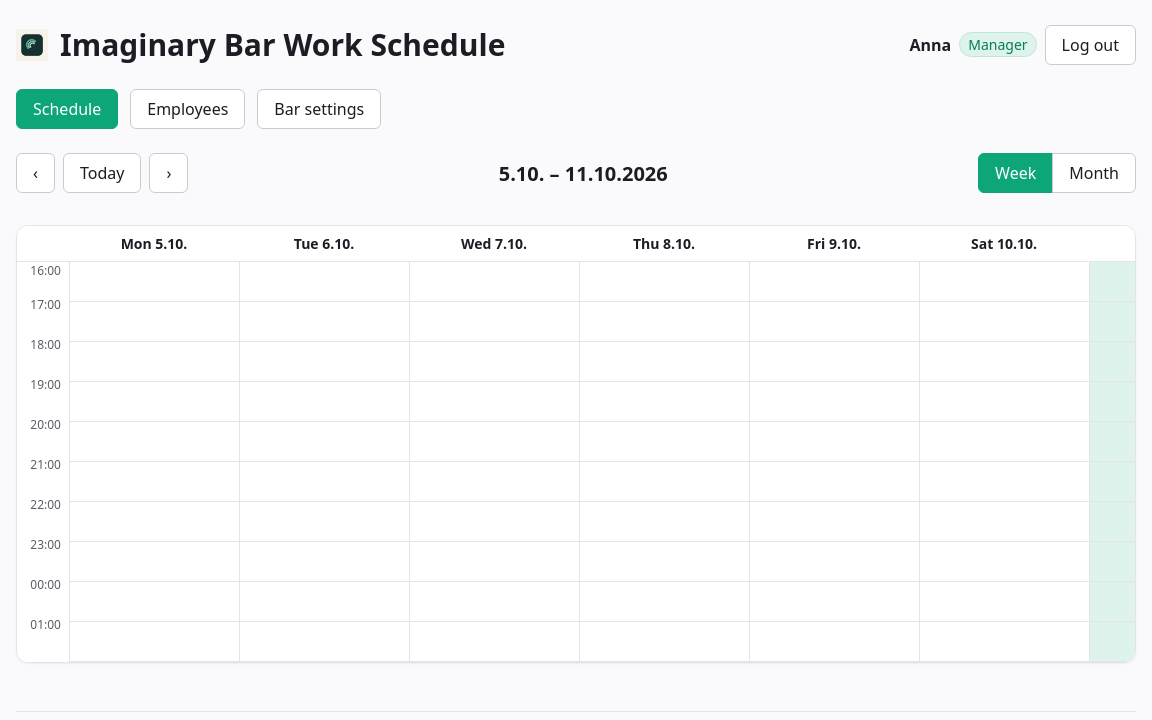
Test: the bar's settings are applied, and a manager can change them
Expected: the button "Schedule" is shown, top-left (16, 89), bottom-right (118, 129)
Expected: the text with class "week-hour-label" reads "16:00", top-left (30, 262), bottom-right (61, 279)
Click the button "Bar settings".
click(319, 109)  # box top-left (257, 89), bottom-right (381, 129)
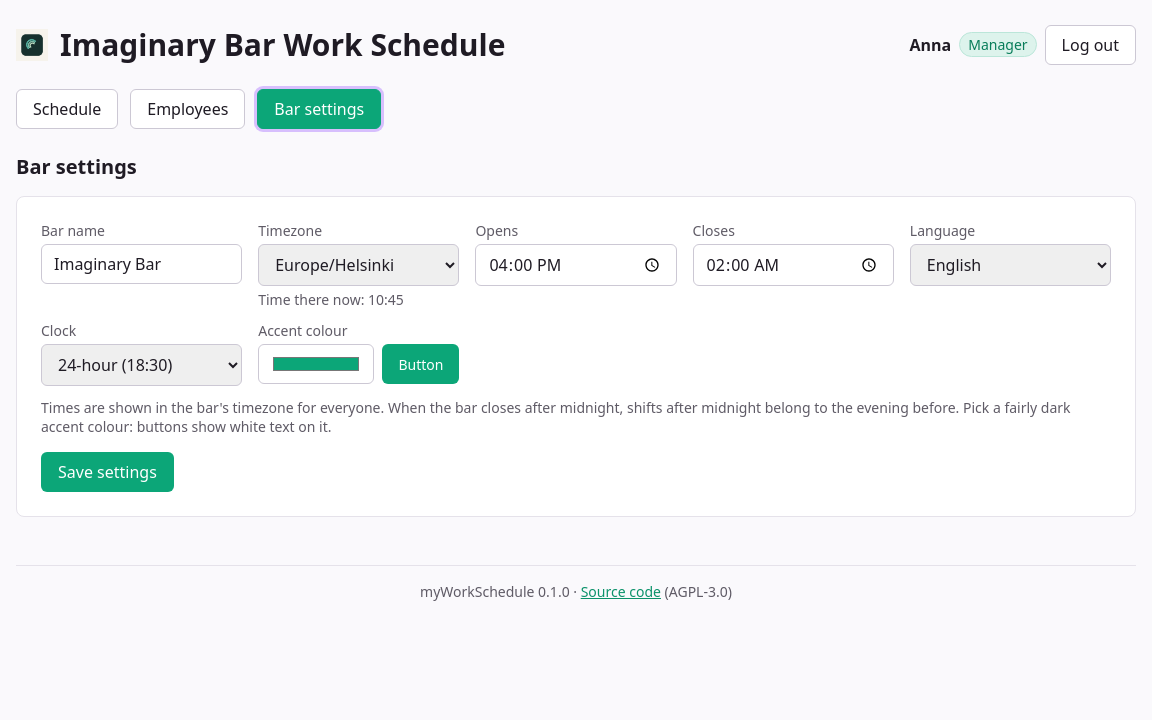
Replace the text in the field labelled "Bar name" with "Imaginary Bar & Grill" at (142, 264), box top-left (41, 244), bottom-right (242, 284)
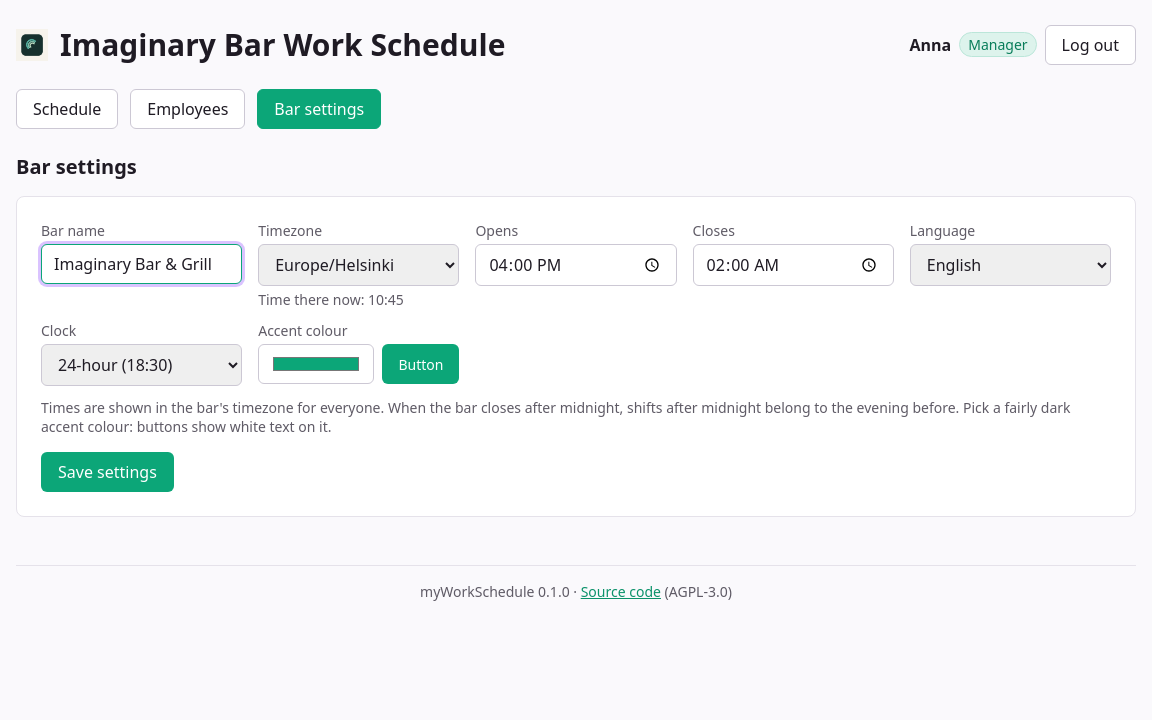
Select "12-hour (6:30 PM)" in the dropdown labelled "Clock" at (142, 365), box top-left (41, 344), bottom-right (242, 386)
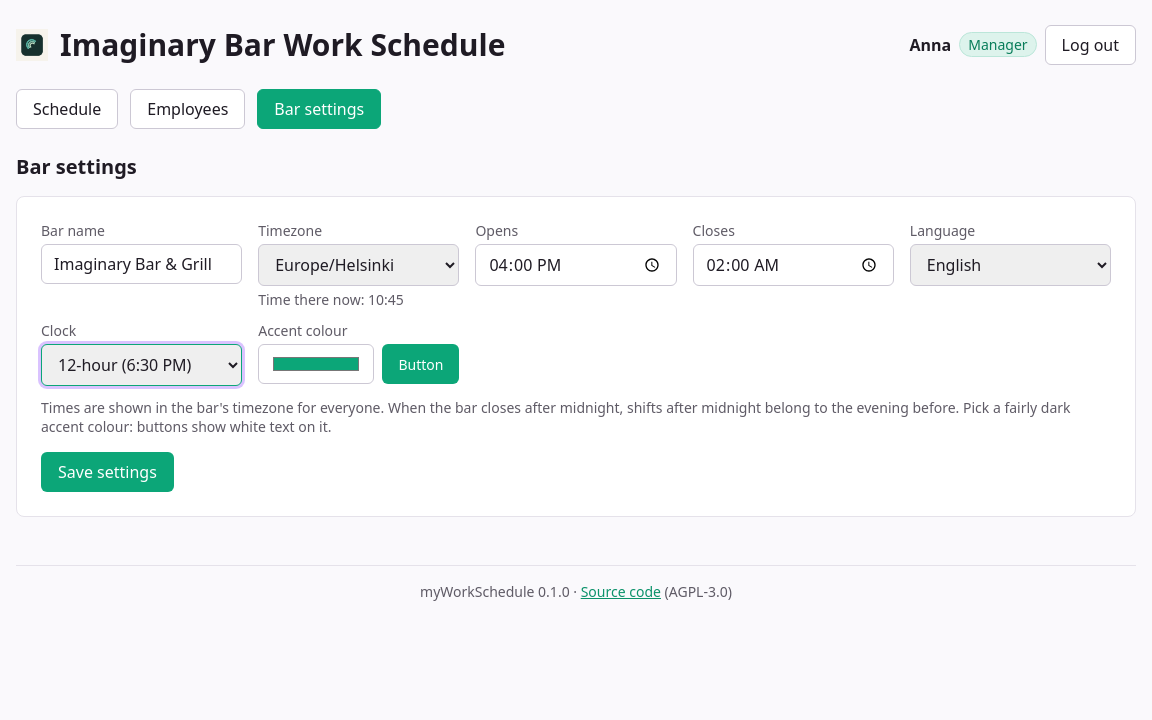
Click the button "Save settings".
click(107, 472)  # box top-left (41, 452), bottom-right (174, 492)
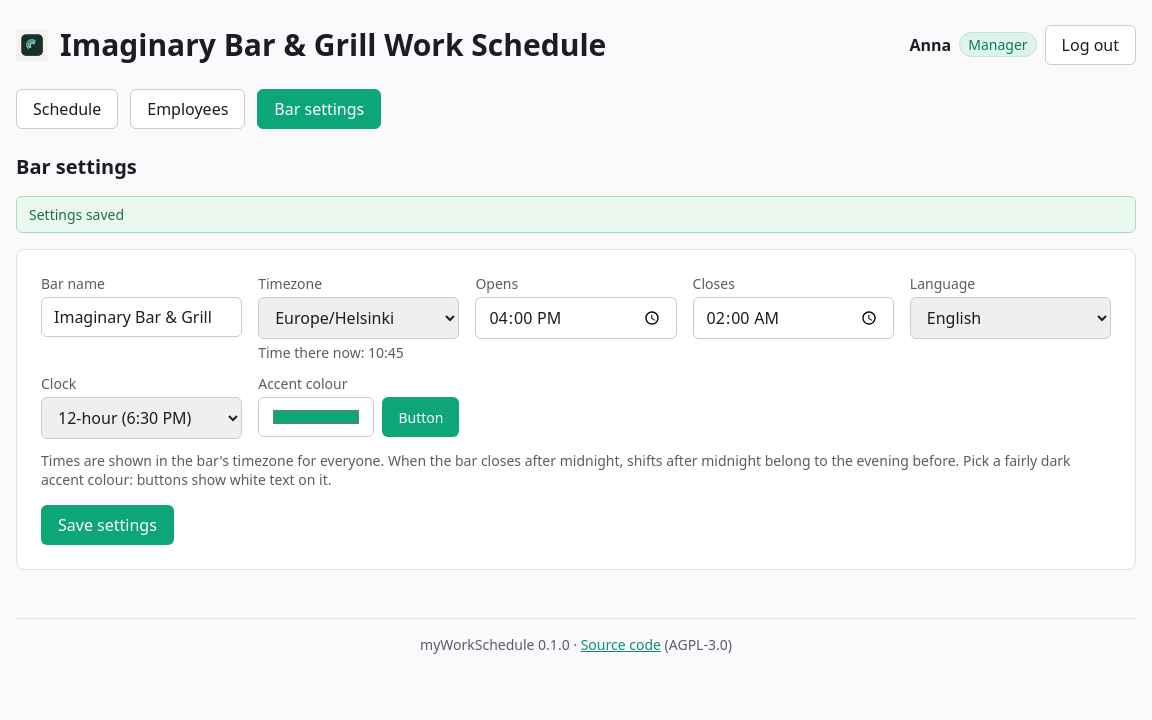
Now the heading "Imaginary Bar & Grill Work Schedule" is shown, box top-left (60, 24), bottom-right (606, 65)
Click the button "Schedule".
click(67, 109)  # box top-left (16, 89), bottom-right (118, 129)
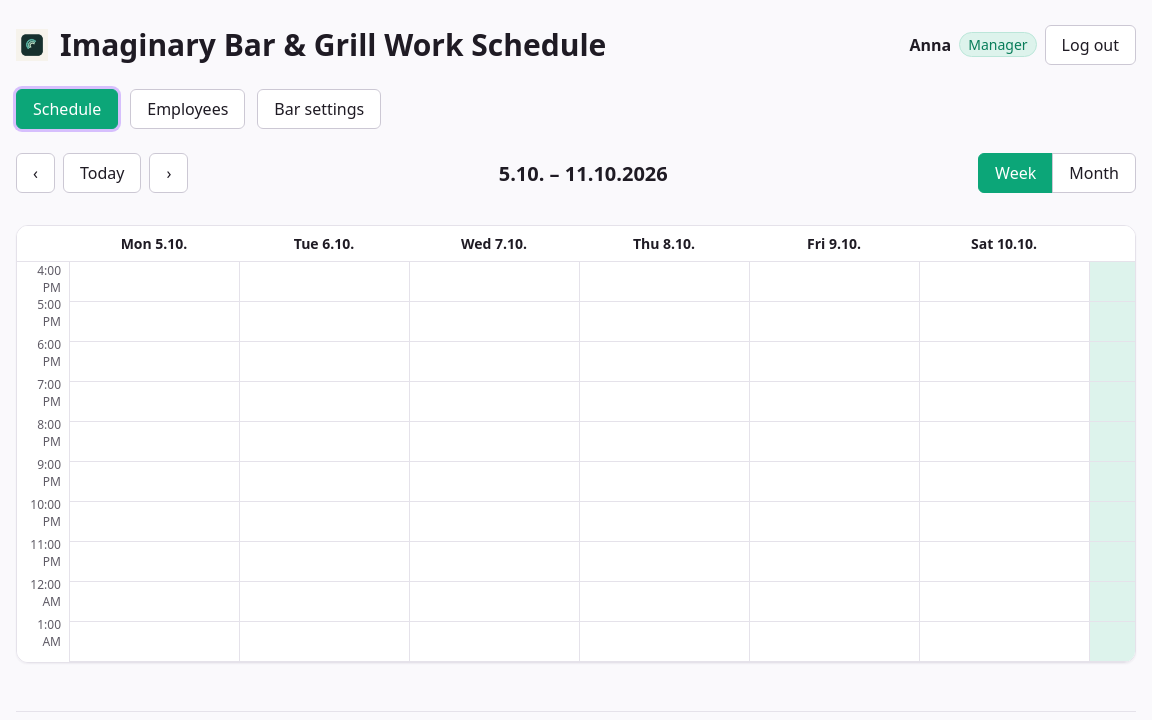
Now the text with class "week-hour-label" reads "4:00 PM", box top-left (37, 262), bottom-right (61, 296)
